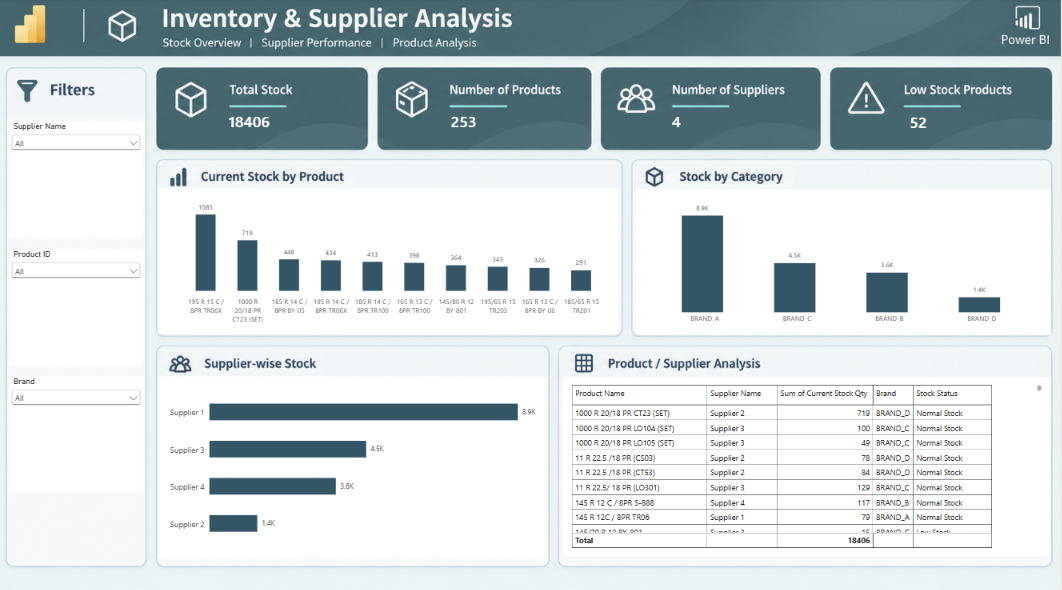

What the dashboard file says about the page in this screenshot:
{"tool":"powerbi","page":{"name":"Inventory & Supplier Analysis","canvas":[1920,1080],"ordinal":3},"visuals":[{"type":"cardVisual","fields":{"Data":["DS Data Set - Current Stock.Total Stock"]},"box":[398.1,188.2,237.1,67],"z":0},{"type":"cardVisual","fields":{"Data":["DS Data Set - Current Stock.No.of Products"]},"box":[799.9,188.2,237.1,67],"z":1000},{"type":"cardVisual","fields":{"Data":["DS Data Set - Current Stock.No.of Supplier"]},"box":[1199.8,188.2,237.1,67],"z":2000},{"type":"cardVisual","fields":{"Data":["DS Data Set - Current Stock.Low Stock"]},"box":[1630.5,190,237.1,67],"z":3000},{"type":"columnChart","fields":{"Category":["DS Data Set - Current Stock.Product Name"],"Y":["Sum(DS Data Set - Current Stock.Current Stock Qty)"]},"box":[286.5,344.2,831.7,263],"z":4000},{"type":"columnChart","fields":{"Category":["DS Data Set - Current Stock.Brand"],"Y":["Sum(DS Data Set - Current Stock.Current Stock Qty)"]},"box":[1150.3,346.4,750.5,263],"z":5000},{"type":"clusteredBarChart","fields":{"Category":["DS Data Set - Supplier.Supplier Name"],"Y":["Sum(DS Data Set - Current Stock.Current Stock Qty)"]},"box":[286.5,684.2,699.2,327.1],"z":6000},{"type":"tableEx","fields":{"Values":["DS Data Set - Current Stock.Product Name","DS Data Set - Supplier.Supplier Name","Sum(DS Data Set - Current Stock.Current Stock Qty)","DS Data Set - Current Stock.Brand","DS Data Set - Current Stock.Stock Status"]},"box":[1016.8,683.4,885.1,327.3],"z":7000},{"type":"slicer","fields":{"Values":["DS Data Set - Supplier.Supplier Name"]},"box":[16.5,222.3,242.9,209.9],"z":8000},{"type":"slicer","fields":{"Values":["DS Data Set - Current Stock.Product ID"]},"box":[16.5,454.9,242.9,209.9],"z":9000},{"type":"slicer","fields":{"Values":["DS Data Set - Supplier.Brand"]},"box":[16.5,683.4,242.9,209.9],"z":10000}]}

Visuals, with their boxes on the page's 1920x1080 design canvas (x1, y1, x2, y2). These are canvas units, not pixel positions in the 1062x590 screenshot, which may show the page scaled, cropped or inside an application window:
cardVisual - DS Data Set - Current Stock.Total Stock: bbox(398, 188, 635, 255)
cardVisual - DS Data Set - Current Stock.No.of Products: bbox(800, 188, 1037, 255)
cardVisual - DS Data Set - Current Stock.No.of Supplier: bbox(1200, 188, 1437, 255)
cardVisual - DS Data Set - Current Stock.Low Stock: bbox(1630, 190, 1868, 257)
columnChart - DS Data Set - Current Stock.Product Name x Sum(DS Data Set - Current Stock.Current Stock Qty): bbox(286, 344, 1118, 607)
columnChart - DS Data Set - Current Stock.Brand x Sum(DS Data Set - Current Stock.Current Stock Qty): bbox(1150, 346, 1901, 609)
clusteredBarChart - DS Data Set - Supplier.Supplier Name x Sum(DS Data Set - Current Stock.Current Stock Qty): bbox(286, 684, 986, 1011)
tableEx - DS Data Set - Current Stock.Product Name x DS Data Set - Supplier.Supplier Name: bbox(1017, 683, 1902, 1011)
slicer - DS Data Set - Supplier.Supplier Name: bbox(16, 222, 259, 432)
slicer - DS Data Set - Current Stock.Product ID: bbox(16, 455, 259, 665)
slicer - DS Data Set - Supplier.Brand: bbox(16, 683, 259, 893)
